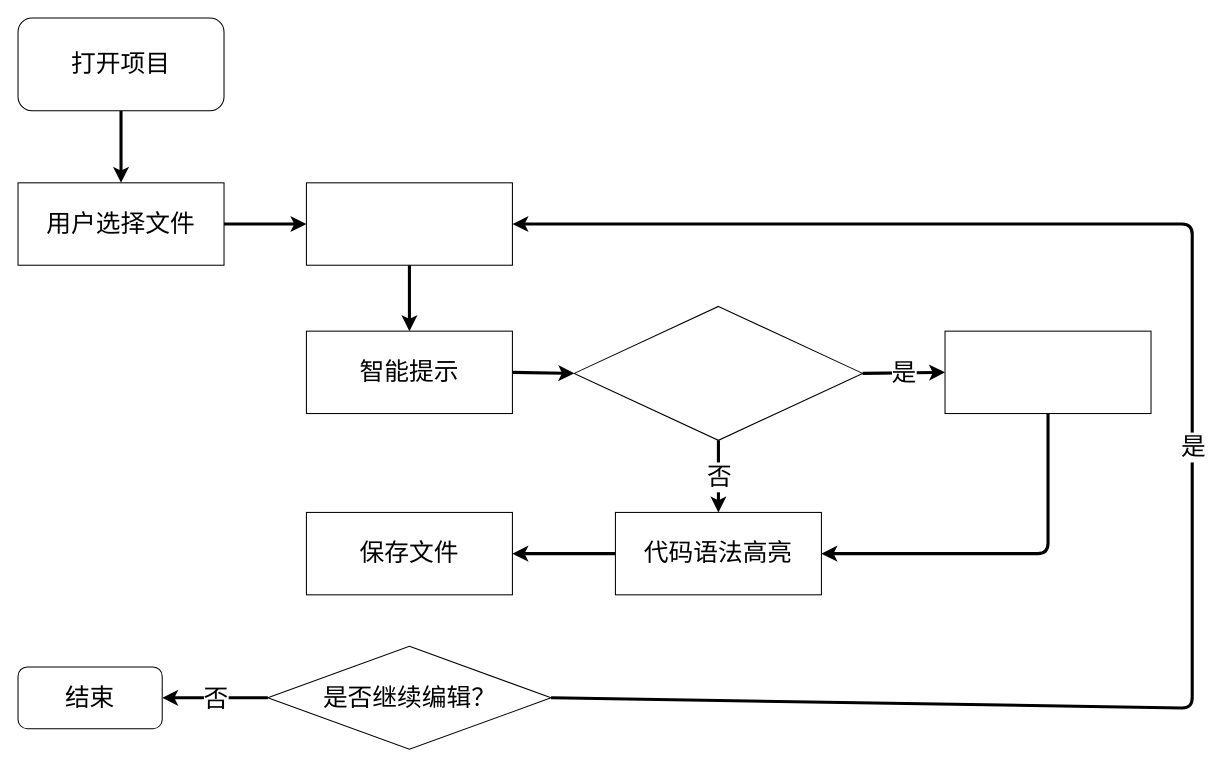
Image size: 1223x767. Some labels were removed from this diagram. Here are the shapes that lost their labels. From the top down, the centre of each, then its label:
At point (408, 223): "用户输入".
At point (718, 372): "是否选择 需要的关键词？".
At point (1047, 372): "选择并快速 输入代码".
